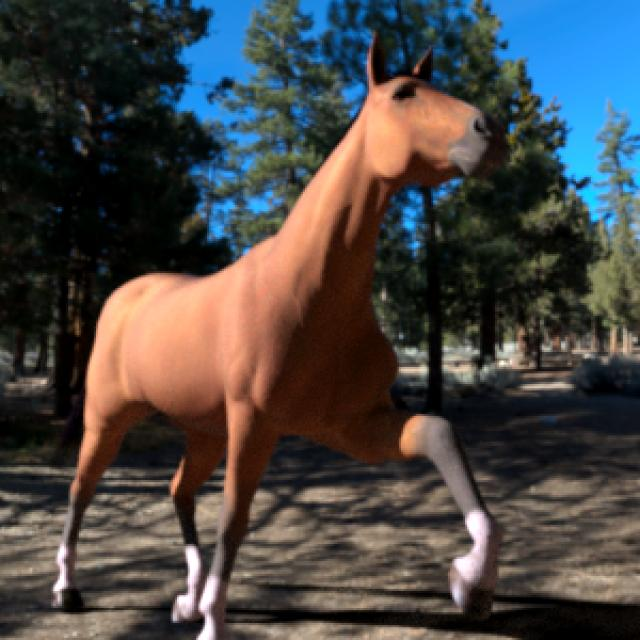horse: (52, 36, 506, 640)
